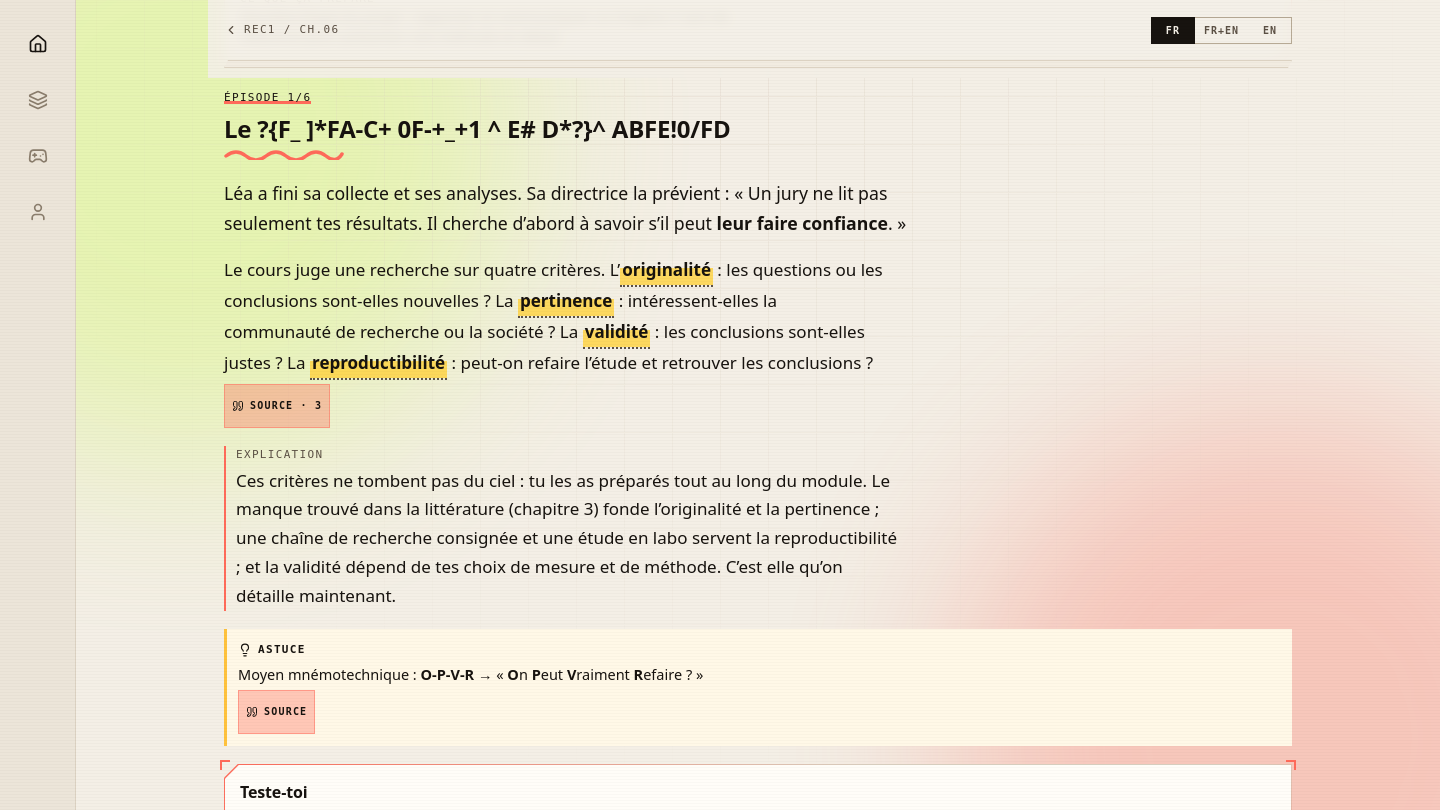
Test: lecteur REC1-05 › puce Source → feuille avec citation exacte et nom lisible du fichier
(page scrolled)
Step 1. Click the button with aria-label "Voir la source dans le cours" → (277,406), box [224, 384, 330, 428]
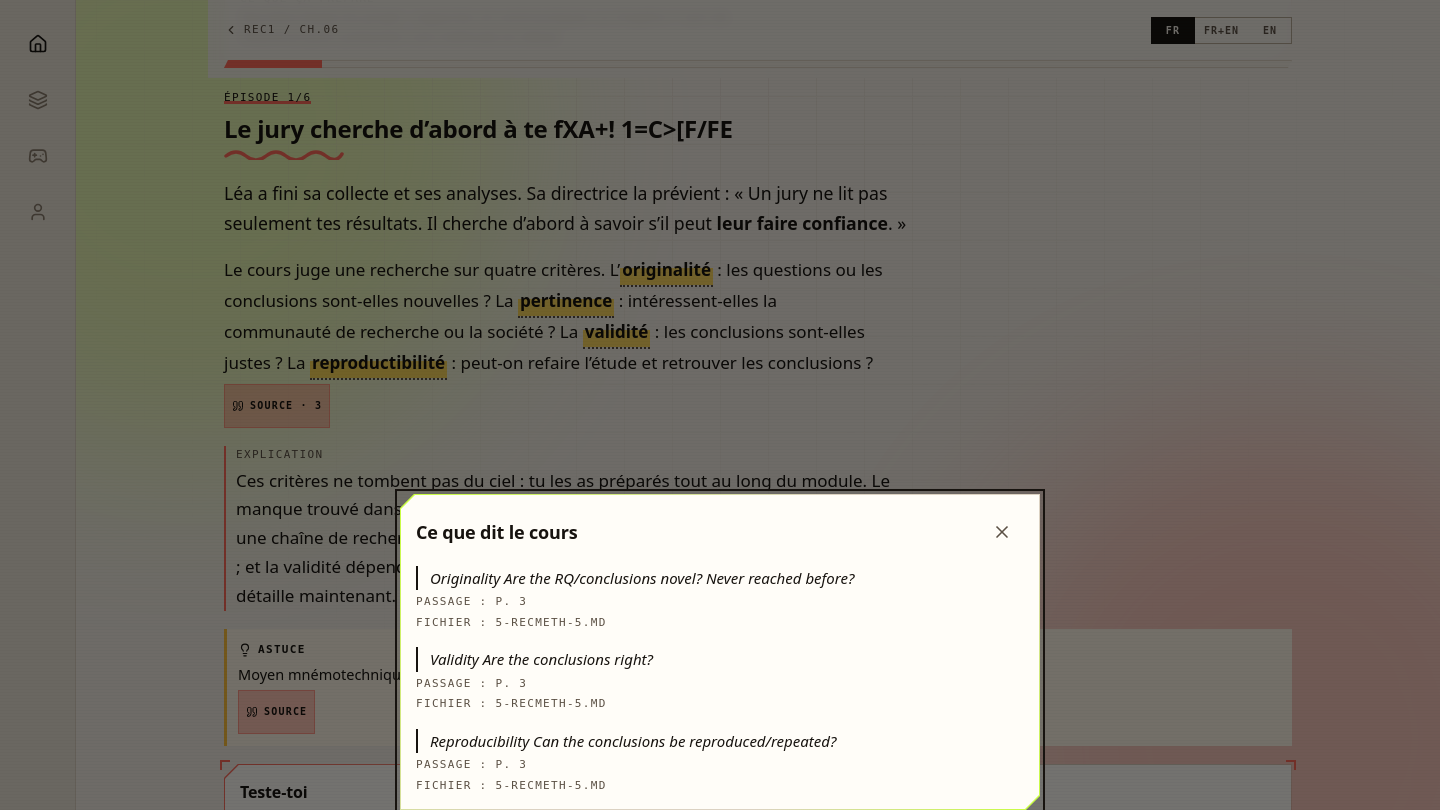
Expected: the dialog "Ce que dit le cours" shows "Passage :", [400, 494, 1040, 809]
